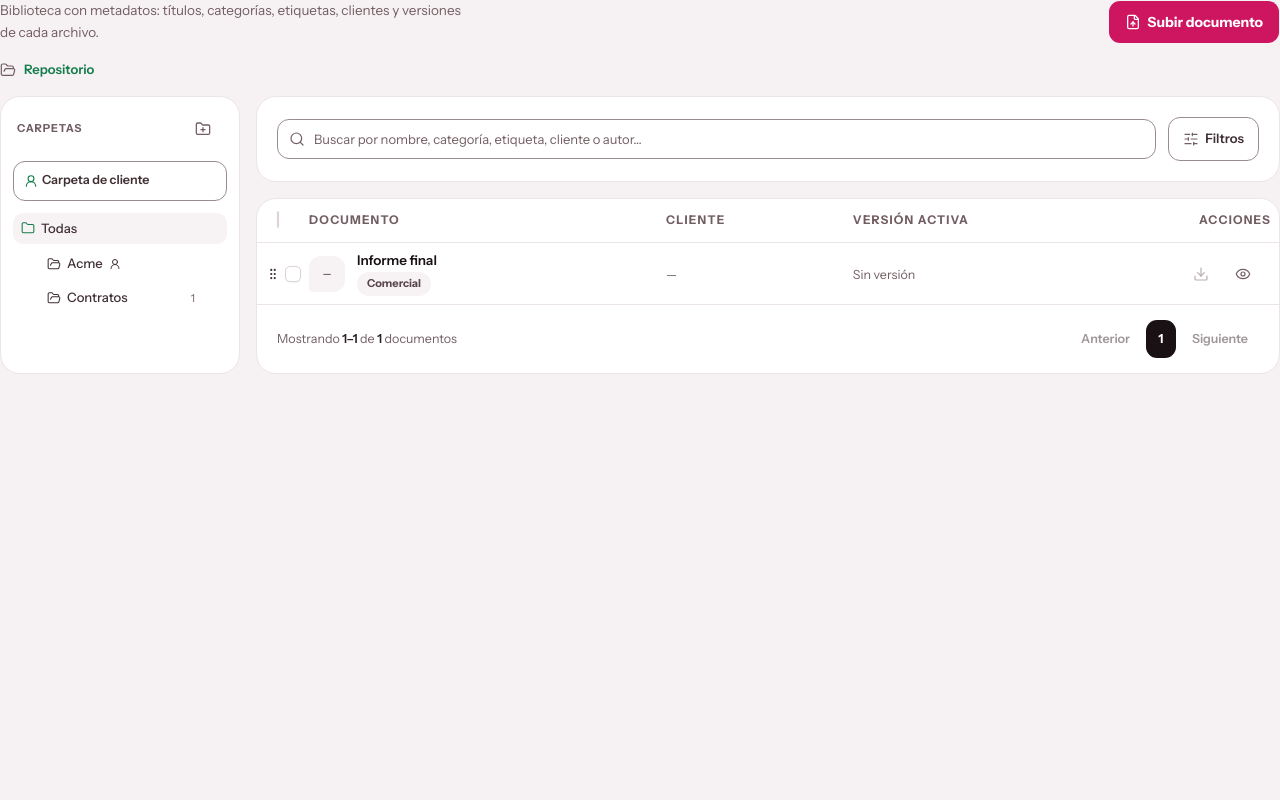
Test: RepositoryList — folders, client folders and drag and drop (S3–S5) › «Subir documento» uploads into the open folder
Click the button "Contratos 1": (121, 298) left=47, top=286, right=195, bottom=310
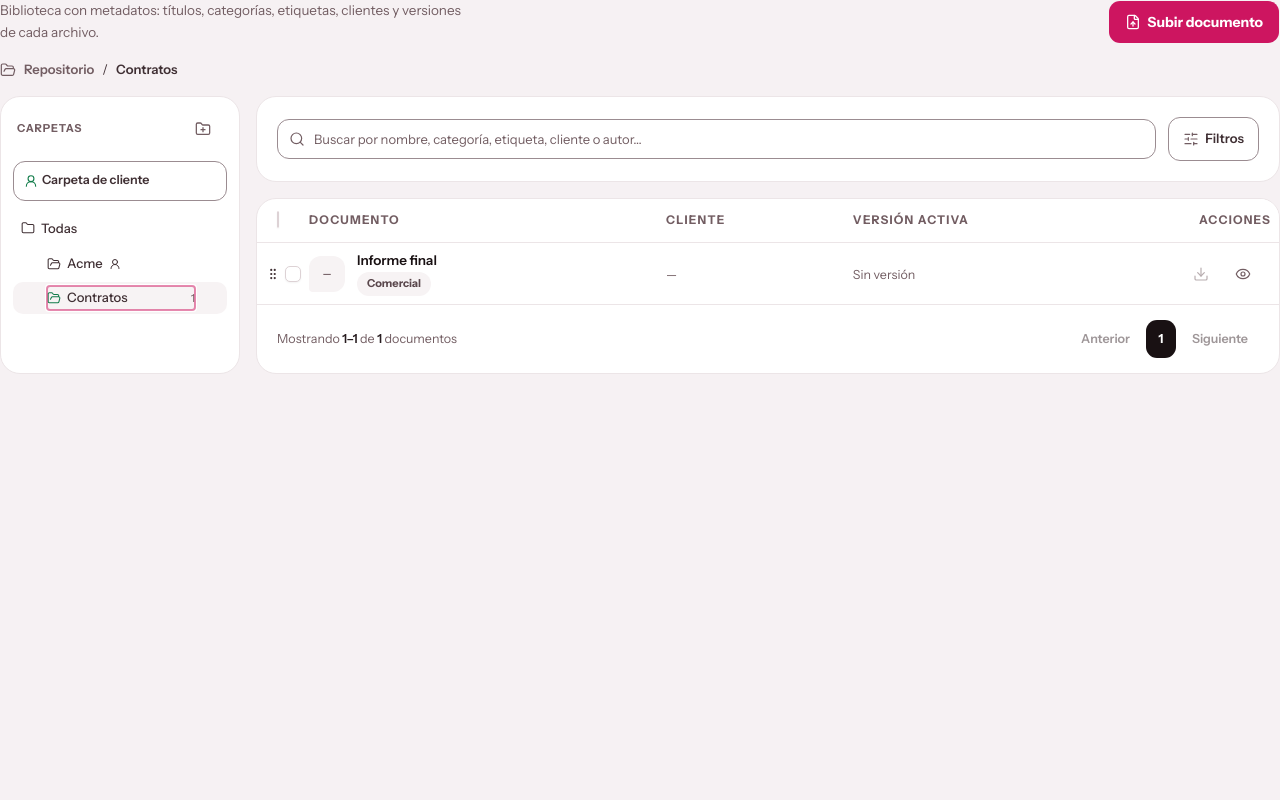
Click the button "Subir documento": (1194, 22) left=1108, top=0, right=1279, bottom=44
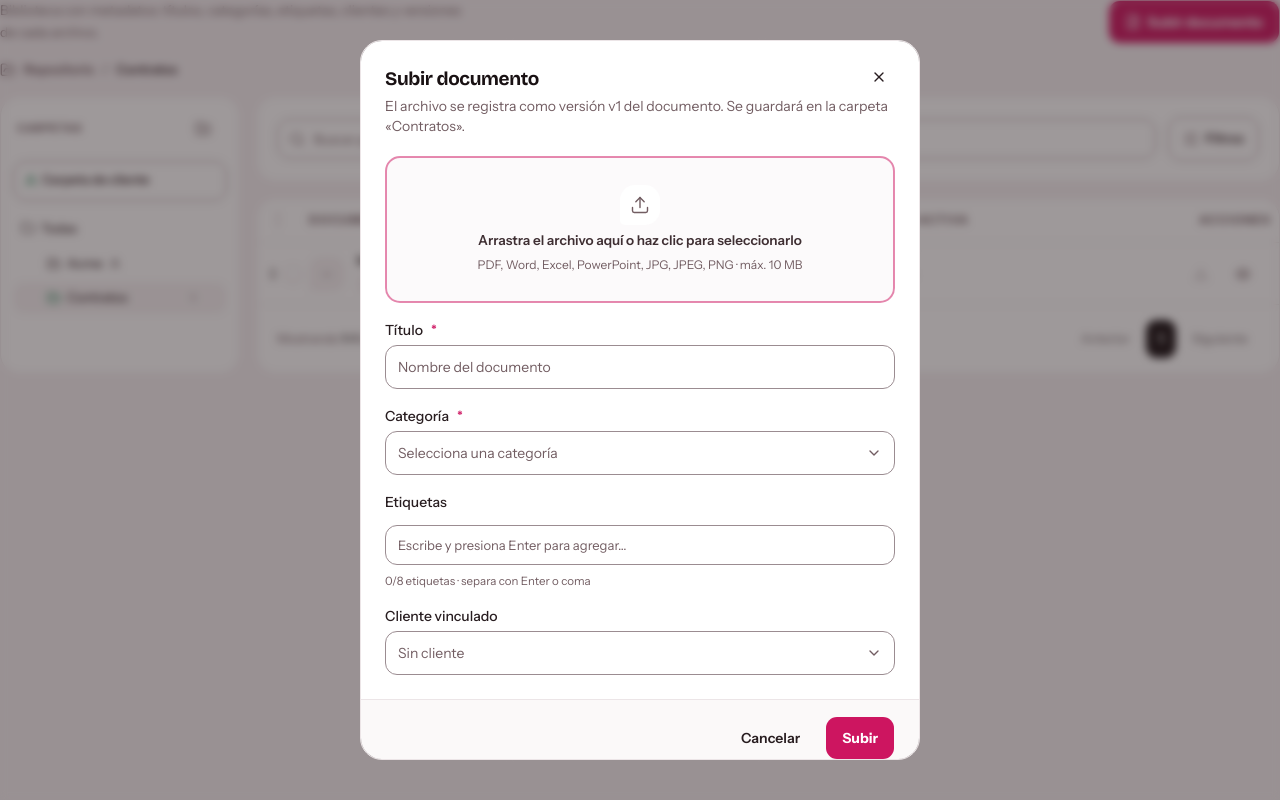
Result: the text "Se guardará en la carpeta «Contratos»" is shown at left=385, top=97, right=888, bottom=135
